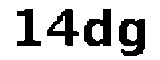1: (12, 7, 43, 49)
4: (47, 4, 80, 49)
d: (82, 6, 116, 51)
g: (117, 17, 147, 60)
